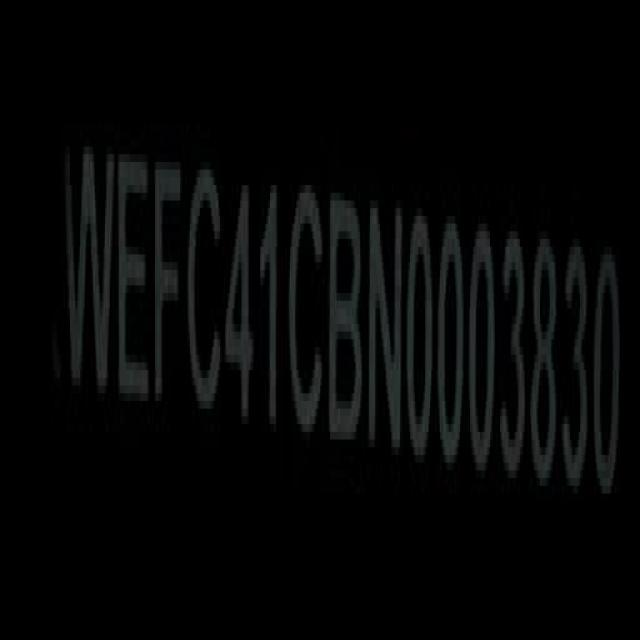0: (407, 199, 436, 469), (466, 214, 495, 482), (437, 204, 465, 472), (596, 244, 625, 498)
1: (260, 166, 284, 441)
3: (562, 240, 588, 499), (502, 227, 528, 483)
4: (225, 162, 254, 435)
8: (531, 229, 558, 488)
B: (330, 184, 366, 450)
C: (289, 175, 327, 444), (188, 156, 222, 429)
E: (118, 136, 152, 420)
F: (151, 147, 184, 419)
N: (367, 186, 406, 463)
W: (64, 131, 116, 414)
X: (20, 120, 61, 394)
